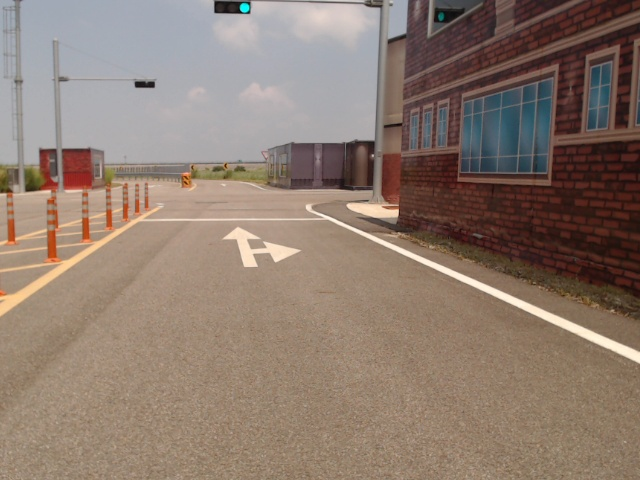green_3: (214, 0, 251, 14)
